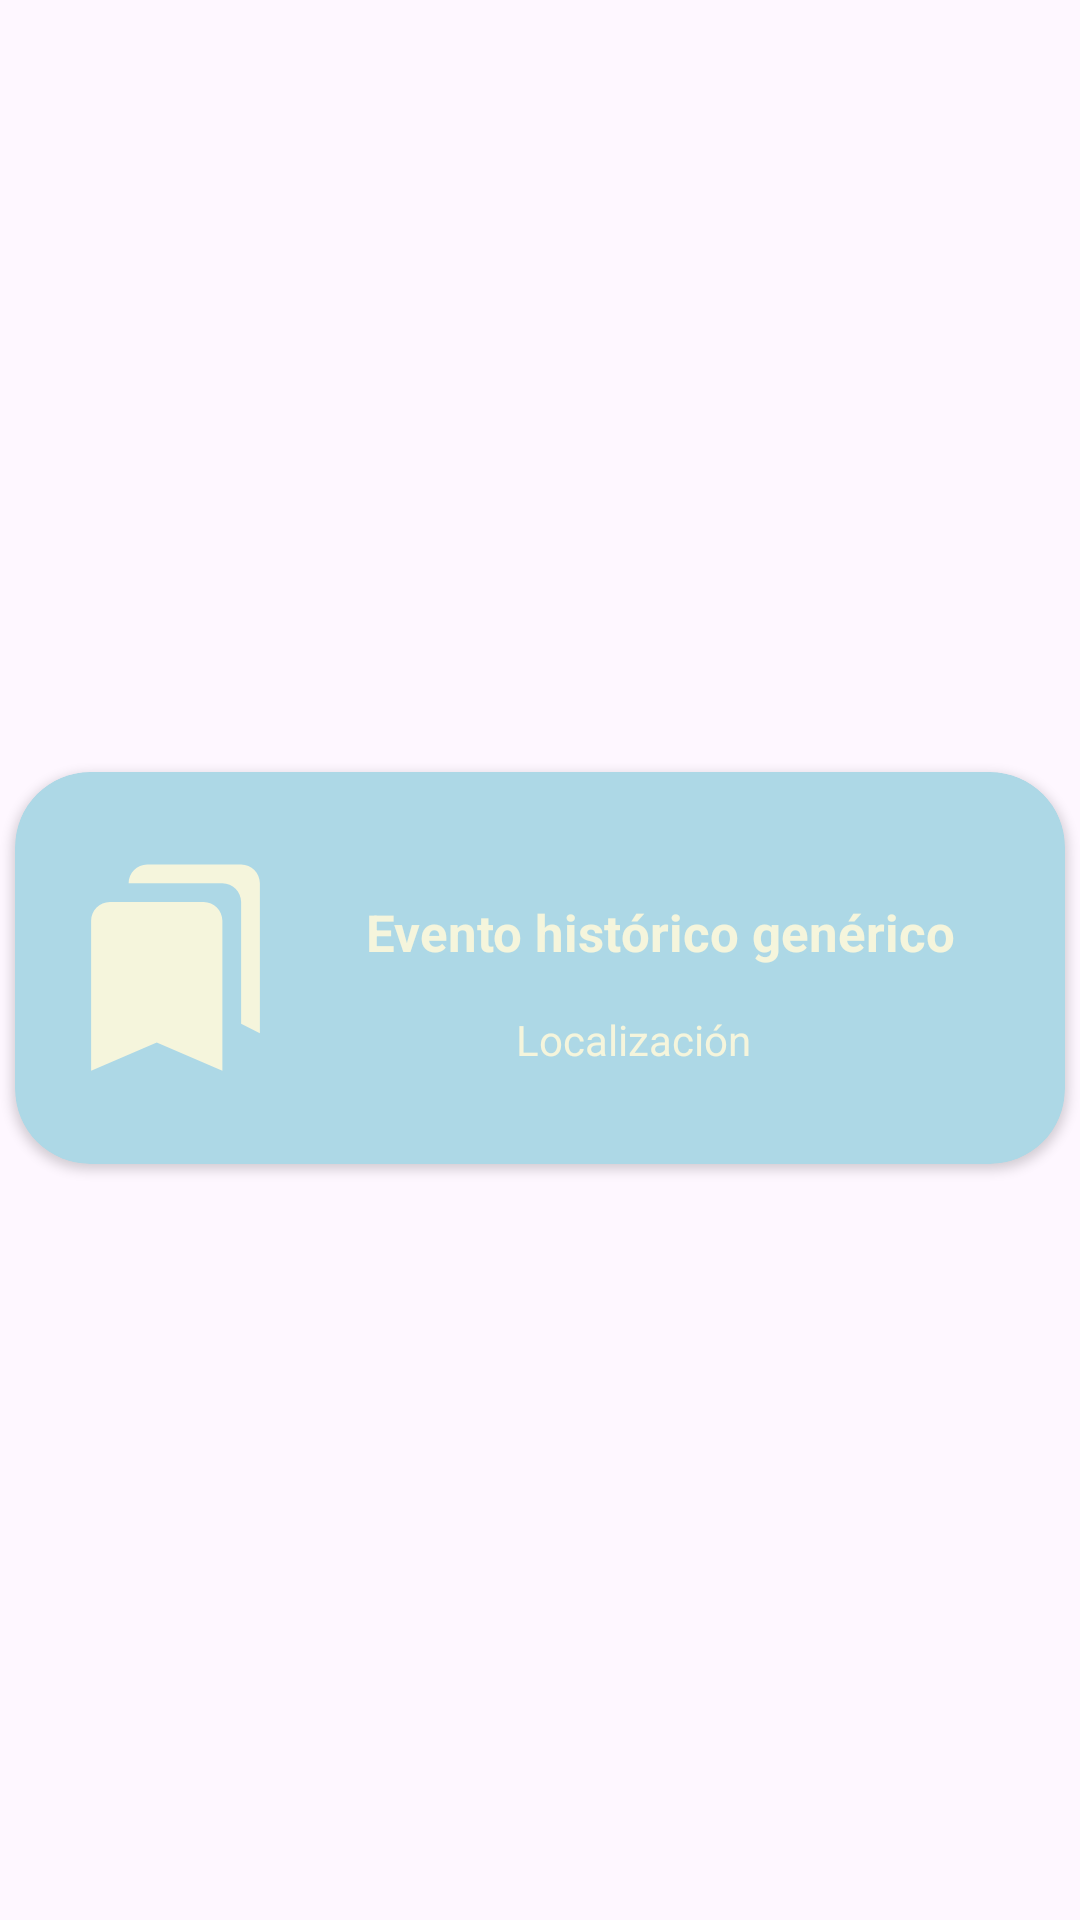

Where to tap for icons on this 1080×1920 app screen, as point (x, y):
bookmarks: point (175, 967)
